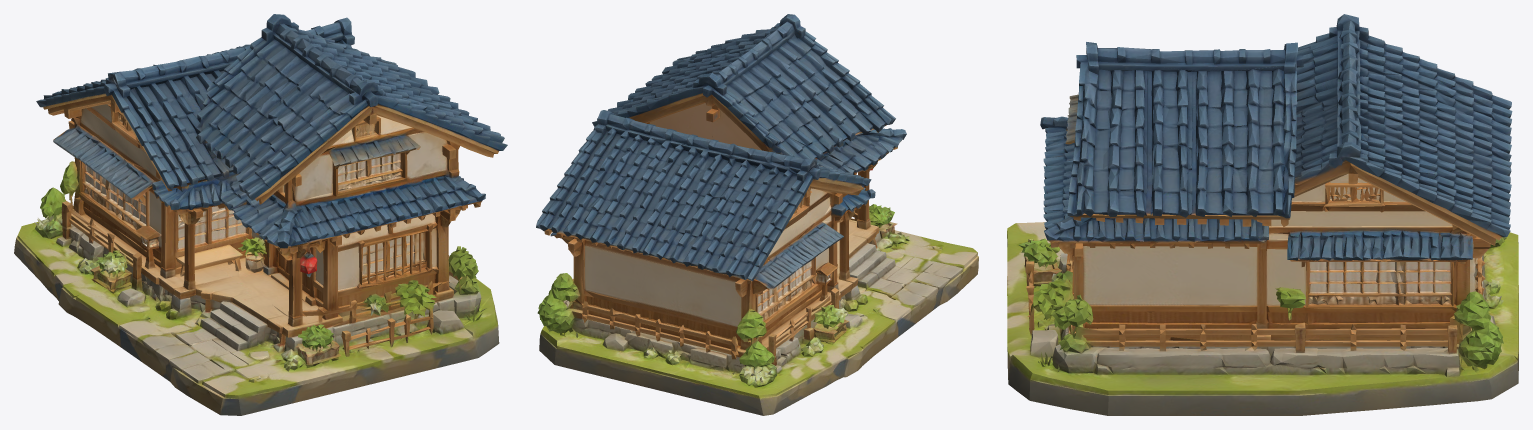
3 views of the same model, side by side, from view 1: azimuth 30°, elevation 25°; view 2: azimuth 150°, elevation 25°; view 3: azimuth 270°, elevation 25° (orthographic). The views are drawn at different scales.
Parts seen in each view (by area): view 1: model; view 2: model; view 3: model.
Boxes of the visible parts, box(x1,y1,x2,y2) form: model: box(14, 14, 507, 415); model: box(536, 14, 978, 415); model: box(1007, 14, 1518, 415).
Bounding box in the file's own units: 1.55 × 1.23 × 1.9.
Materials: 1 (1 with a texture image).
